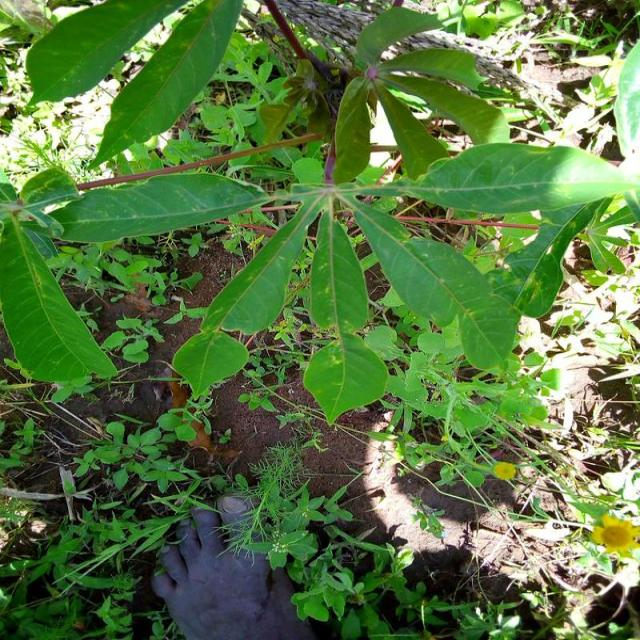cassava leaf: (86, 0, 244, 170), (0, 178, 118, 388), (386, 140, 636, 215), (45, 170, 270, 243)
